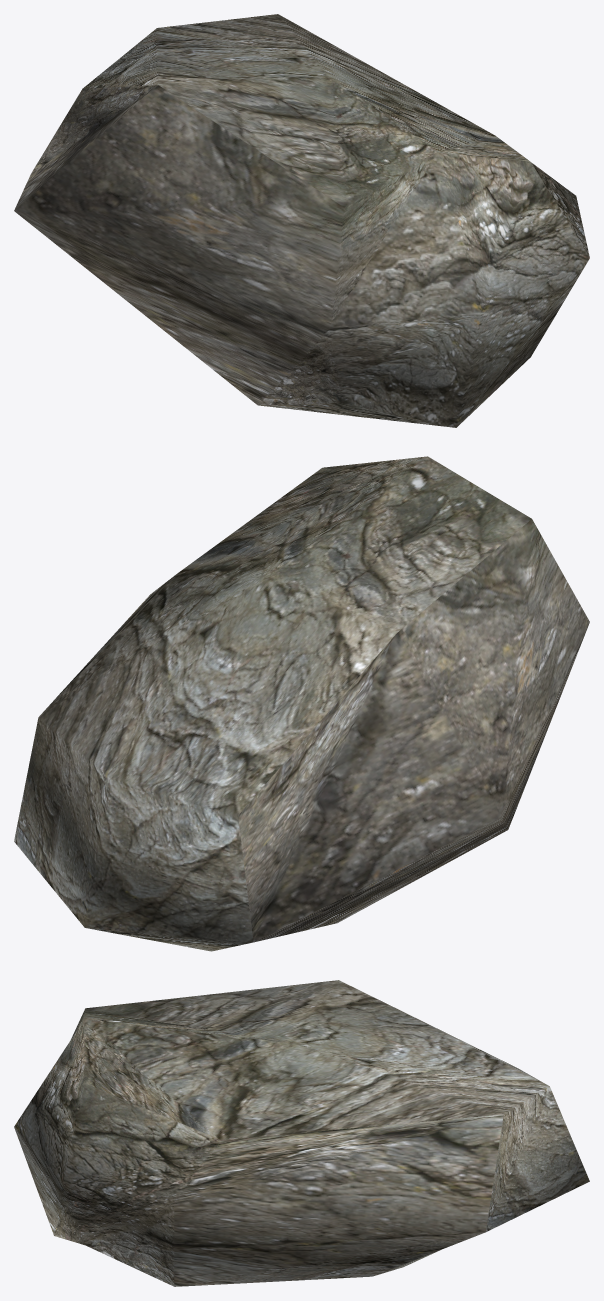
File: rock_01.fbx
The picture shows the model from 3 angles, top to bottom: view 1: azimuth 30°, elevation 25°; view 2: azimuth 150°, elevation 25°; view 3: azimuth 270°, elevation 25°; orthographic projection. The views are drawn at different scales.
Parts seen in each view (by area): view 1: rock_01; view 2: rock_01; view 3: rock_01.
Part boxes in pixels (x1,y1,x2,y2): rock_01: (14,14,589,427); rock_01: (14,456,589,951); rock_01: (14,980,589,1286).
Bounding box in the file's own units: 32.42 × 21.66 × 44.68.
Materials: 1 (1 with a texture image).
